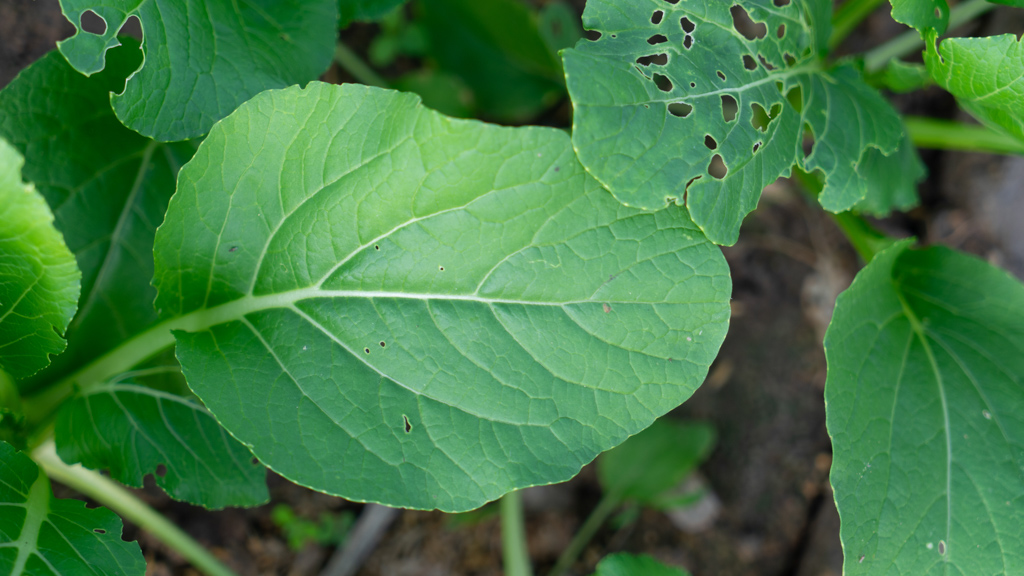frog-eye leafspot: (360, 333, 389, 361), (398, 404, 417, 442), (598, 298, 622, 321), (367, 236, 387, 259), (434, 263, 450, 273)
